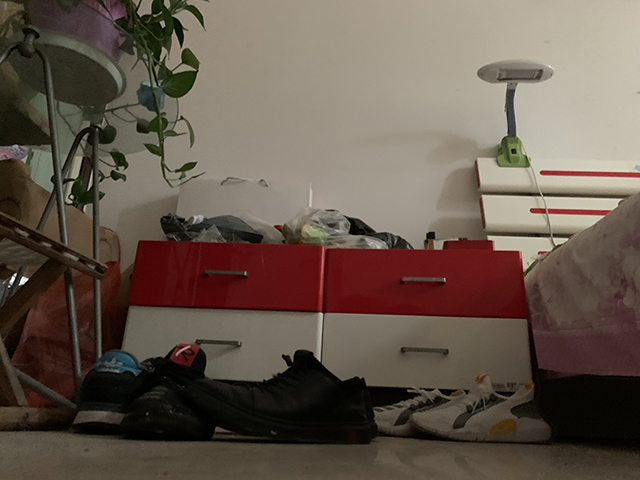bed: (473, 156, 640, 380)
stool: (1, 213, 109, 429)
